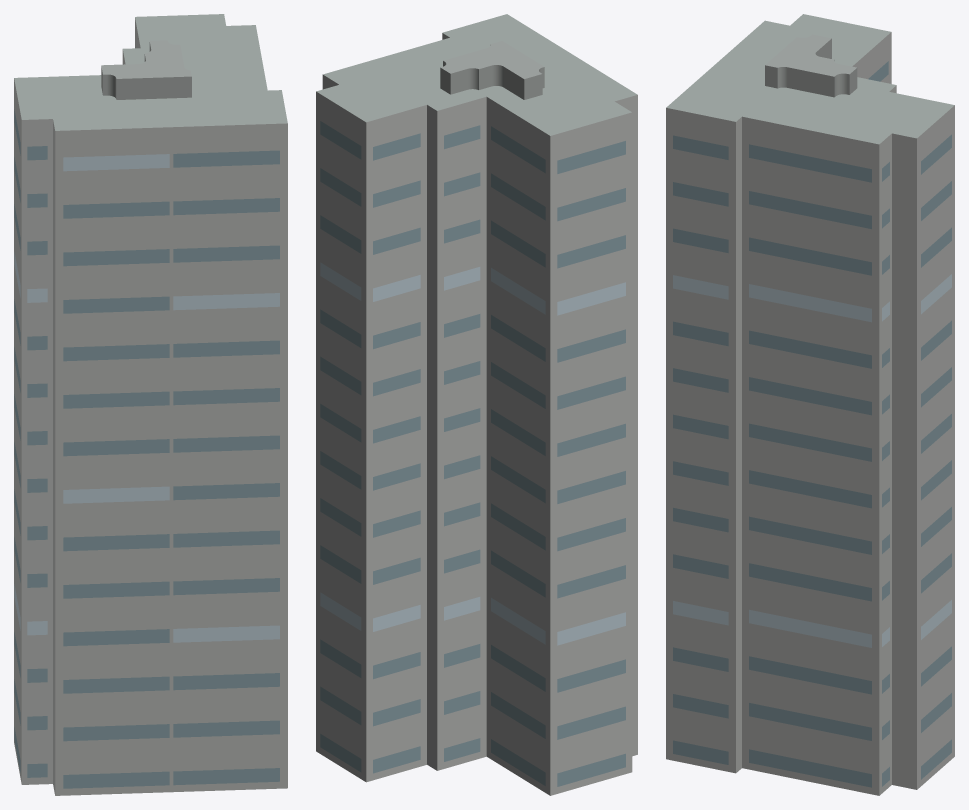
The model's file is fallback-banpo-xi-125.glb.
3 renders of one model, left to right at view 1: azimuth 30°, elevation 25°; view 2: azimuth 150°, elevation 25°; view 3: azimuth 270°, elevation 25°, orthographic. The views are drawn at different scales.
Visible parts, largest first — view 1: fallback-banpo-xi-125; view 2: fallback-banpo-xi-125; view 3: fallback-banpo-xi-125.
Part boxes in pixels (left/top/right/bottom): fallback-banpo-xi-125: left=14, top=14, right=287, bottom=795; fallback-banpo-xi-125: left=316, top=14, right=637, bottom=795; fallback-banpo-xi-125: left=666, top=14, right=954, bottom=795.
Size of the model in its own units: 32.47 by 78 by 30.38.
